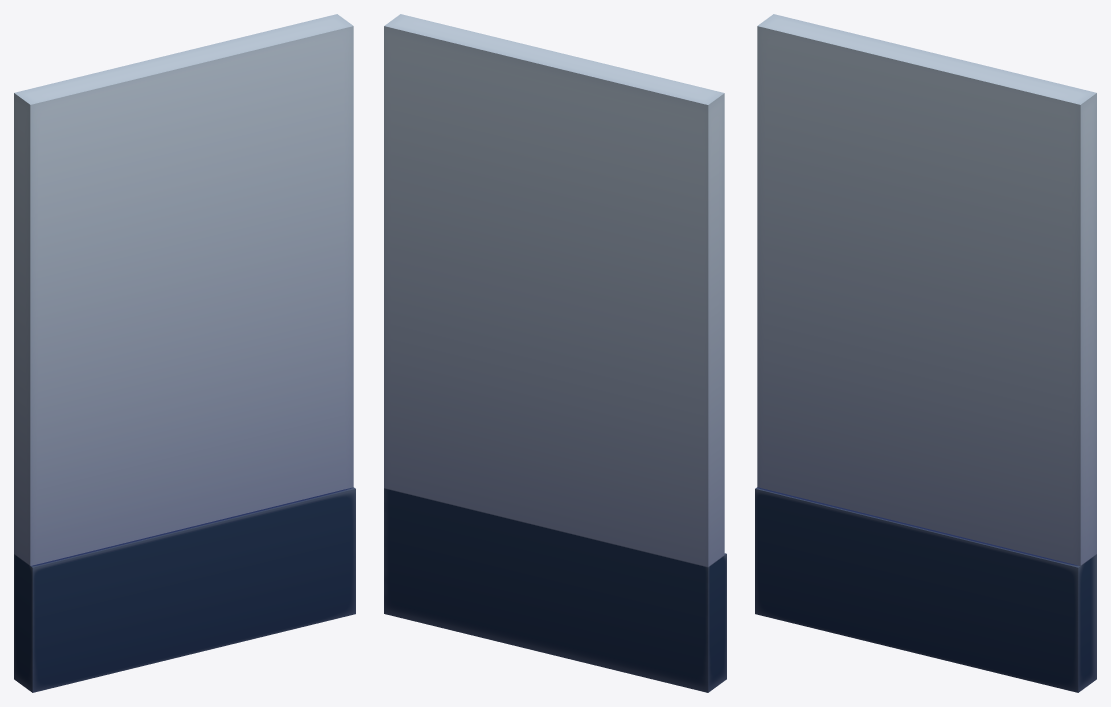
Rendered from wall1_main_low.fbx.
3 renders of one model, left to right at view 1: azimuth 30°, elevation 25°; view 2: azimuth 150°, elevation 25°; view 3: azimuth 330°, elevation 25°, orthographic.
Parts seen in each view (by area): view 1: main_low1; view 2: main_low1; view 3: main_low1.
Part boxes in pixels (x1=…): main_low1: x1=14, y1=14, x2=355, y2=692; main_low1: x1=384, y1=14, x2=726, y2=692; main_low1: x1=755, y1=14, x2=1096, y2=692.
Size of the model in its own units: 1500 by 2600 by 150.
